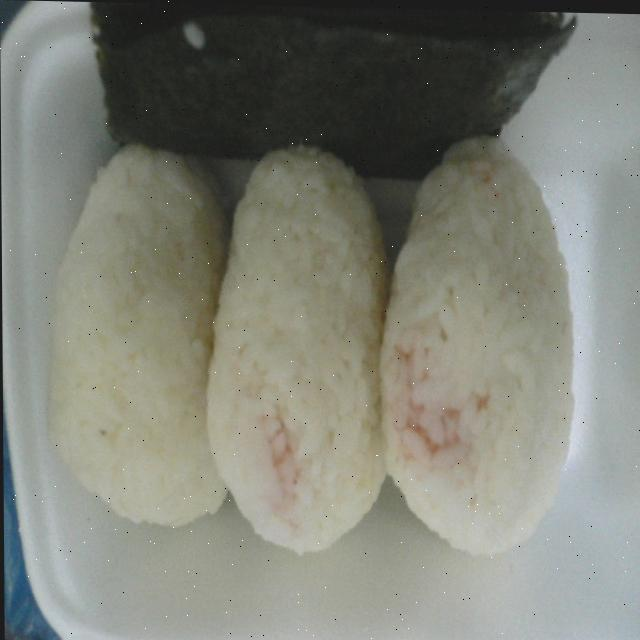米饭主食: (375, 146, 598, 548), (204, 126, 391, 590), (43, 149, 245, 542)
